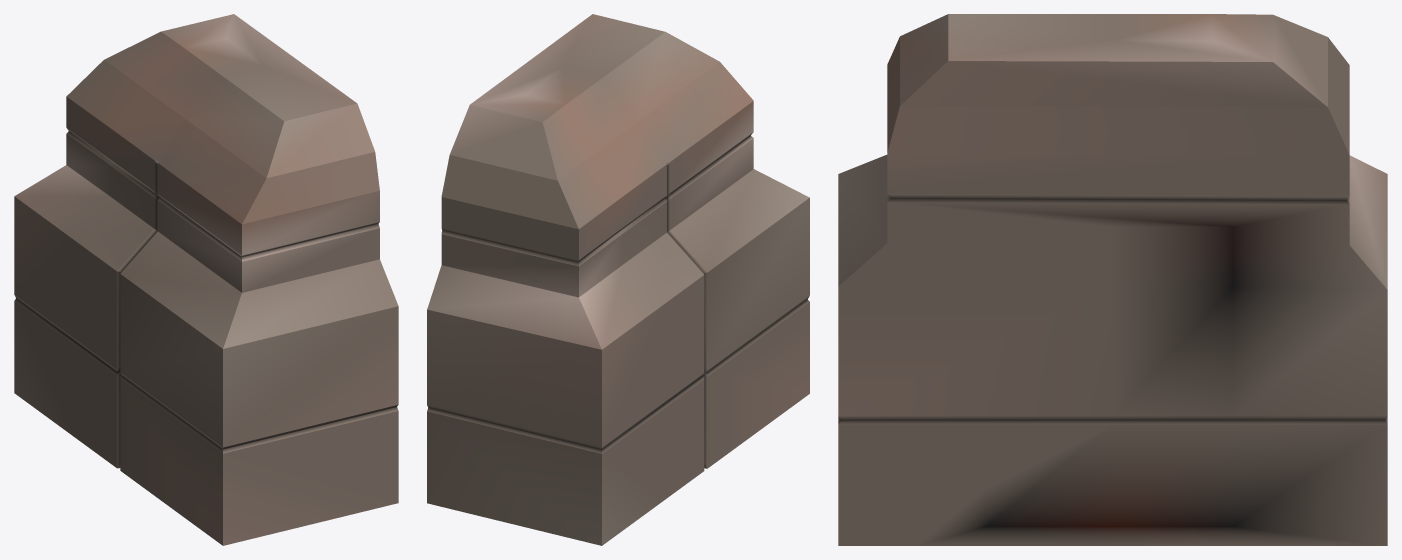
File: FurnaceBaseRight.fbx
3 views of the same model, side by side, from view 1: azimuth 30°, elevation 25°; view 2: azimuth 150°, elevation 25°; view 3: azimuth 270°, elevation 25° (orthographic). The views are drawn at different scales.
Parts seen in each view (by area): view 1: FurnaceRight; view 2: FurnaceRight; view 3: FurnaceRight.
Part boxes in pixels (left/top/right/bottom): FurnaceRight: left=14, top=14, right=398, bottom=545; FurnaceRight: left=427, top=14, right=809, bottom=545; FurnaceRight: left=838, top=14, right=1387, bottom=545.
Size of the model in its own units: 44.81 by 89.62 by 91.91.
